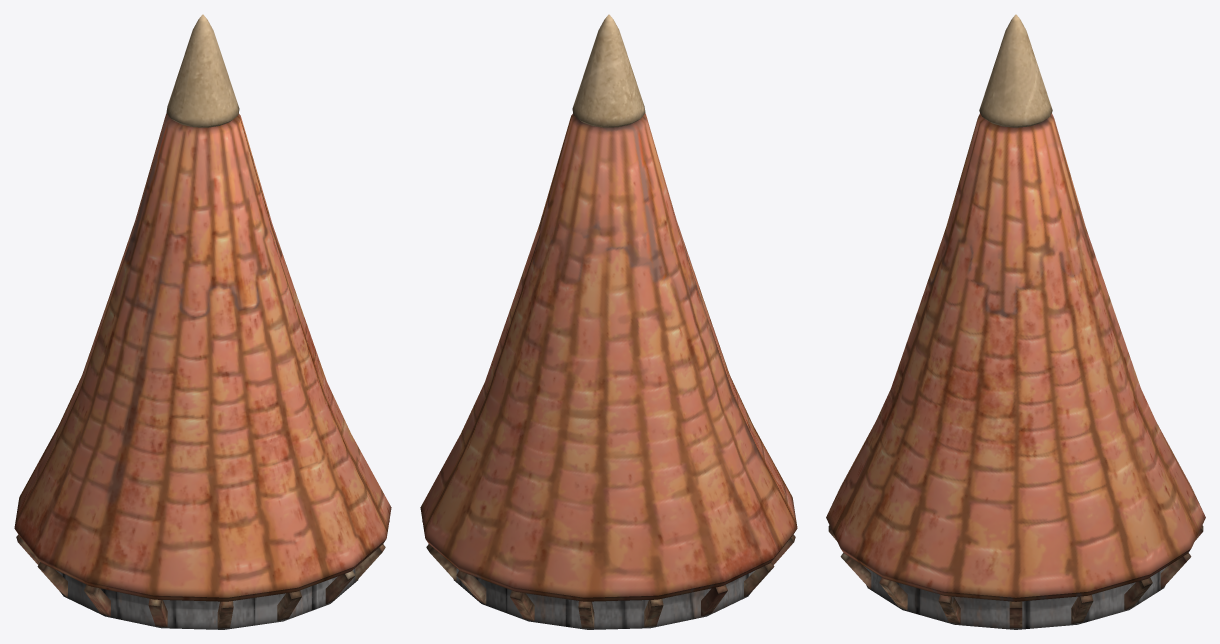
File: sb_obj_outdoor001_Castle01_CircleWallTop00.fbx
3 renders of one model, left to right at view 1: azimuth 30°, elevation 25°; view 2: azimuth 150°, elevation 25°; view 3: azimuth 270°, elevation 25°, orthographic.
Visible parts, largest first — view 1: sb_obj_outdoor001_Castle01_CircleWallTop00; view 2: sb_obj_outdoor001_Castle01_CircleWallTop00; view 3: sb_obj_outdoor001_Castle01_CircleWallTop00.
Boxes of the visible parts, x1=… form: sb_obj_outdoor001_Castle01_CircleWallTop00: x1=14, y1=14, x2=391, y2=629; sb_obj_outdoor001_Castle01_CircleWallTop00: x1=420, y1=14, x2=797, y2=629; sb_obj_outdoor001_Castle01_CircleWallTop00: x1=826, y1=14, x2=1205, y2=629.
Size of the model in its own units: 3.72 by 5.92 by 3.72.
